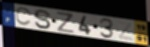3: (99, 18, 115, 40)
4: (78, 16, 92, 36)
C: (15, 7, 33, 27)
S: (34, 9, 53, 30)
Z: (57, 11, 76, 35), (116, 20, 135, 42)
